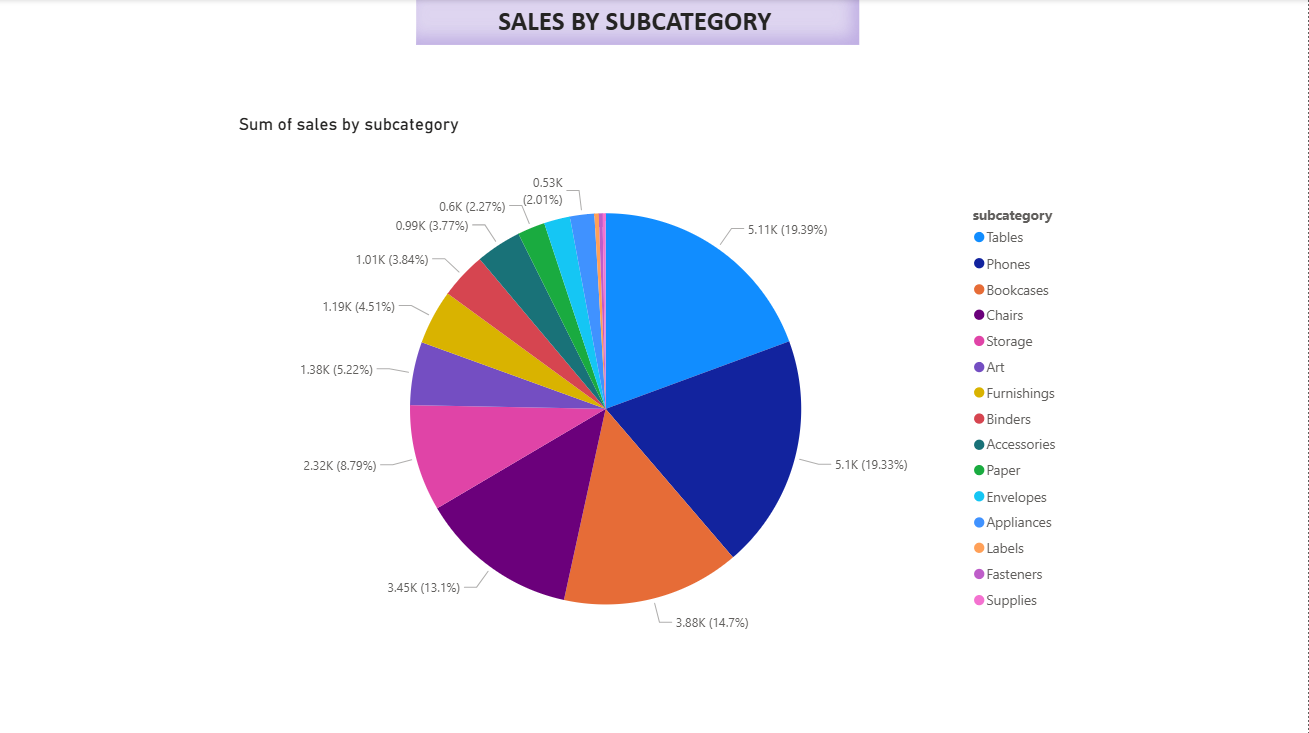

What the dashboard file says about the page in this screenshot:
{"tool":"powerbi","page":{"name":"Salesbysubcategory","canvas":[1280,720],"ordinal":2},"visuals":[{"type":"pieChart","fields":{"Y":["Sum(sales.sales)"],"Category":["sales.subcategory"]},"box":[228.4,112.2,823,558.1],"z":0},{"type":"textbox","box":[406.8,0,433.8,44.6],"z":1000}]}

Visuals, with their boxes in screenshot pixels (x1, y1, x2, y2), scaled from the page's 1280x720 canvas onto the 1309x733 screenshot:
pieChart - Sum(sales.sales) x sales.subcategory: left=234, top=114, right=1075, bottom=682
textbox: left=416, top=0, right=860, bottom=45
